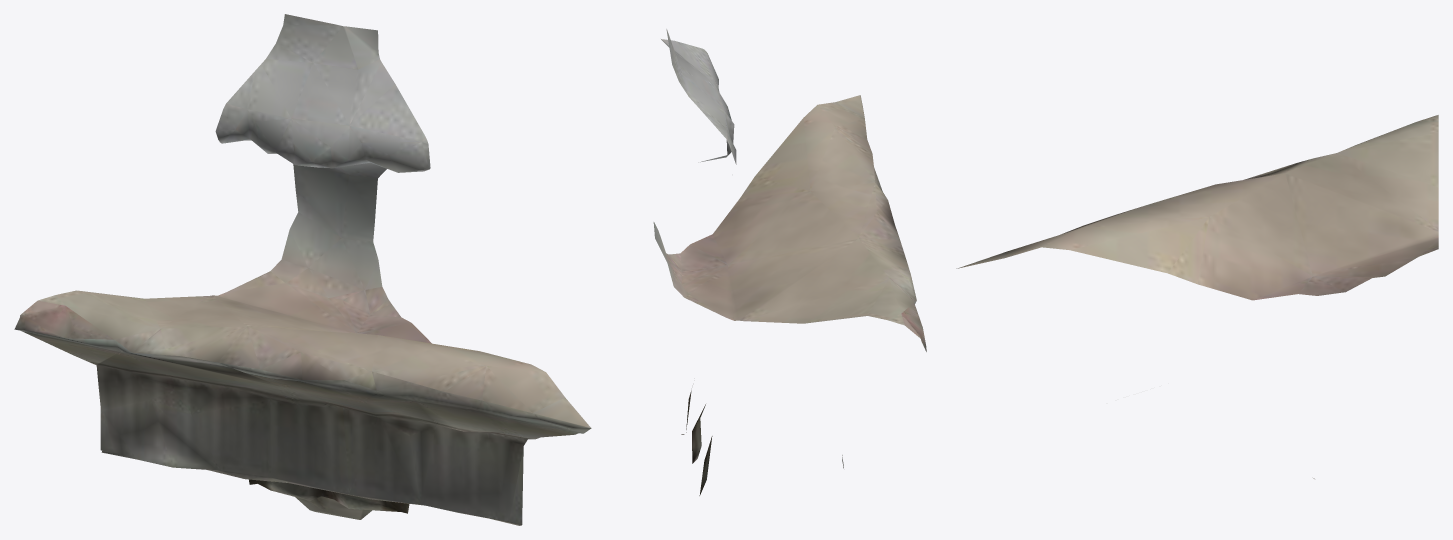
3 renders of one model, left to right at view 1: azimuth 30°, elevation 25°; view 2: azimuth 150°, elevation 25°; view 3: azimuth 270°, elevation 25°, orthographic. The views are drawn at different scales.
Bounding box in the file's own units: 1.07 × 1.62 × 1.46.
1 material, 1 textured.
